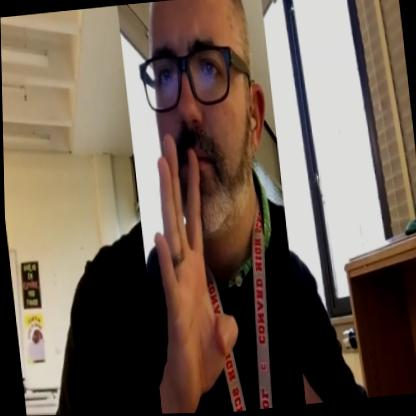Talk: (117, 0, 304, 415)
